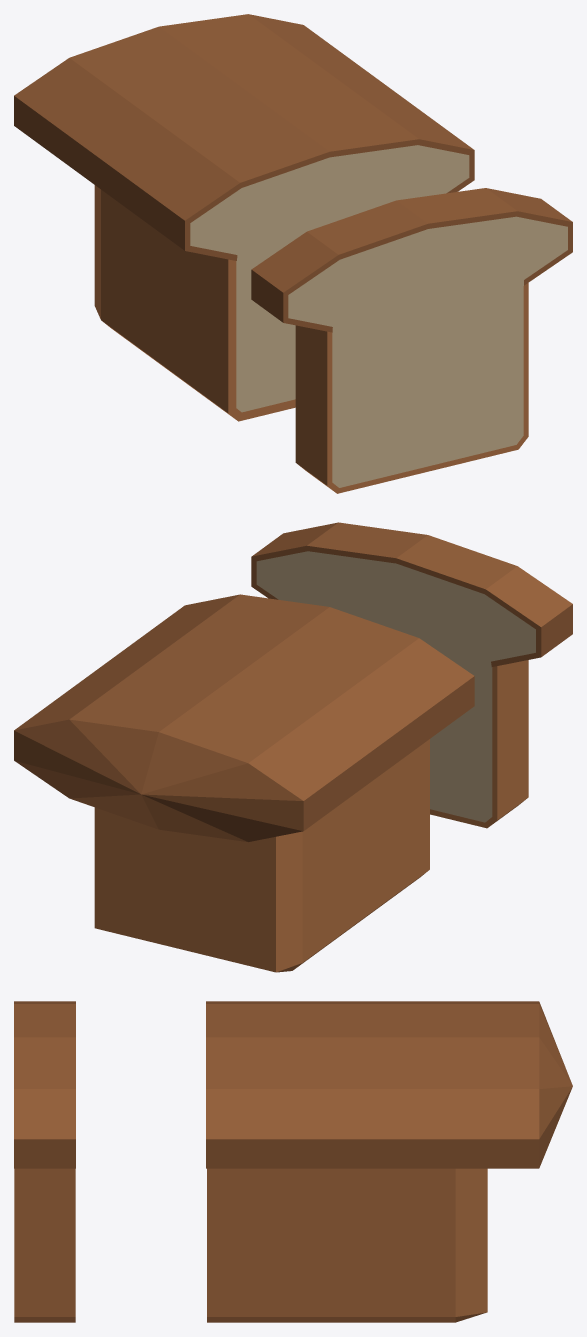
Rendered from BreadSlice.fbx.
The picture shows the model from 3 angles, top to bottom: view 1: azimuth 30°, elevation 25°; view 2: azimuth 150°, elevation 25°; view 3: azimuth 270°, elevation 25°; orthographic projection. The views are drawn at different scales.
Visible parts, largest first — view 1: Cylinder.001, Cube.001, Cylinder.002, Cube; view 2: Cylinder.001, Cube.002, Cube; view 3: Cylinder.001, Cube.
Boxes of the visible parts, x1,y1,x2,y2 form: Cylinder.001: [14, 14, 474, 421]; Cube.001: [288, 216, 567, 487]; Cylinder.002: [190, 145, 469, 412]; Cube: [251, 188, 572, 493]; Cylinder.001: [14, 594, 474, 972]; Cube.002: [256, 551, 535, 822]; Cube: [251, 522, 572, 828]; Cylinder.001: [206, 1001, 572, 1322]; Cube: [14, 1001, 75, 1322].
Size of the model in its own units: 32.49 by 26.6 by 55.66.
